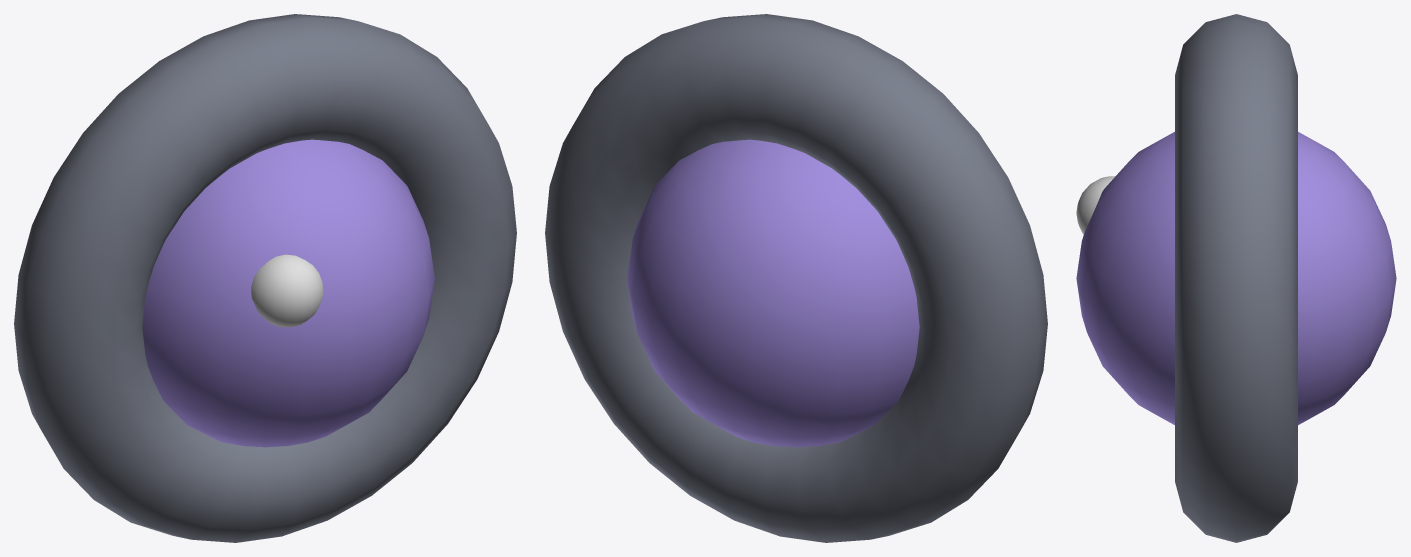
The model's file is mat_core.glb.
3 renders of one model, left to right at view 1: azimuth 30°, elevation 25°; view 2: azimuth 150°, elevation 25°; view 3: azimuth 270°, elevation 25°, orthographic. The views are drawn at different scales.
Visible parts, largest first — view 1: _sphere; view 2: _sphere; view 3: _sphere.
Boxes of the visible parts, x1,y1,x2,y2 form: _sphere: (14, 14, 516, 542); _sphere: (545, 14, 1047, 542); _sphere: (1076, 14, 1396, 542).
Bounding box in the file's own units: 0.86 × 0.86 × 0.52.
